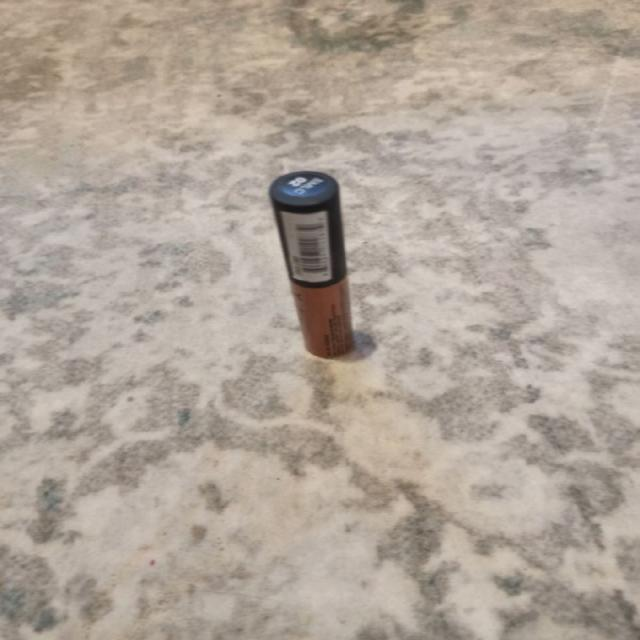lipstick: (267, 170, 355, 358)
